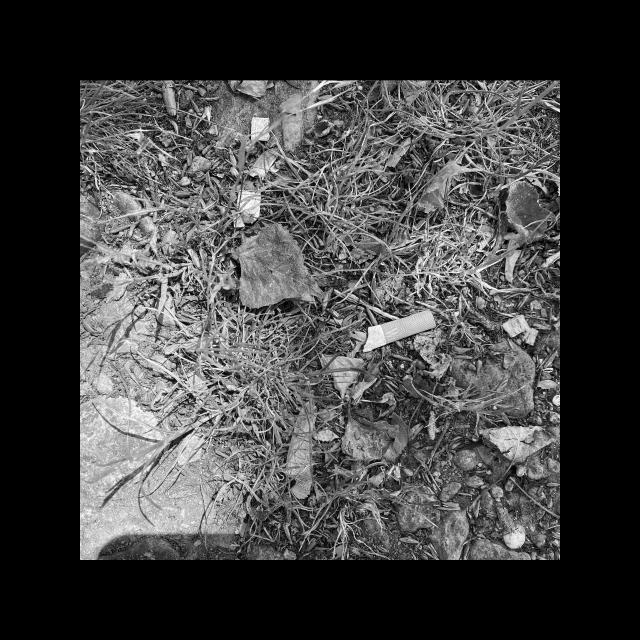cigarette: (361, 310, 436, 352)
